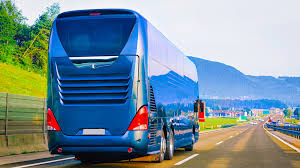bus: (43, 8, 199, 161)
